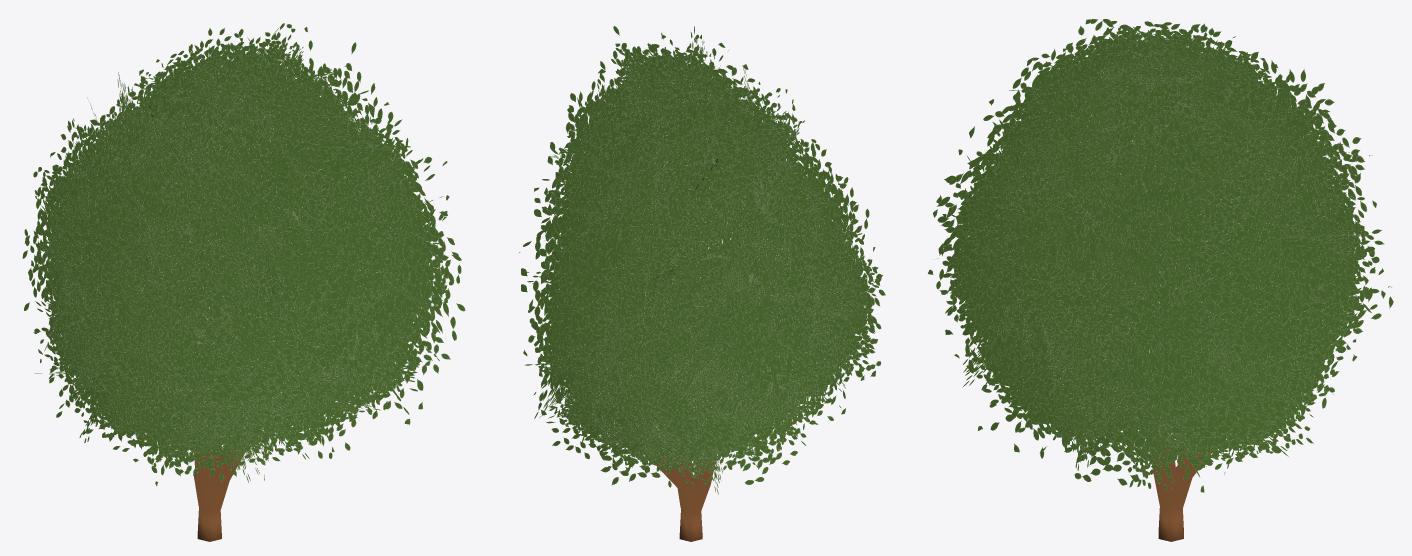
The model's file is Elm tree.fbx.
3 renders of one model, left to right at view 1: azimuth 30°, elevation 25°; view 2: azimuth 150°, elevation 25°; view 3: azimuth 270°, elevation 25°, orthographic. The views are drawn at different scales.
Parts seen in each view (by area): view 1: tree.002; view 2: tree.002; view 3: tree.002.
Boxes of the visible parts, box(x1,y1,x2,y2) form: tree.002: box(22, 23, 465, 541); tree.002: box(519, 26, 885, 541); tree.002: box(928, 19, 1393, 541).
Bounding box in the file's own units: 749 × 993 × 792.
